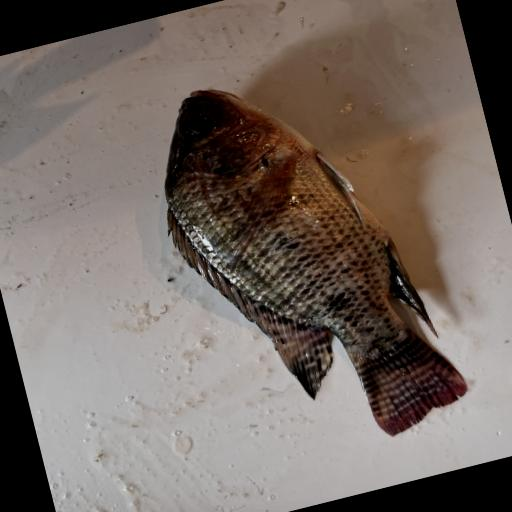Tilapia: (136, 44, 476, 478)
